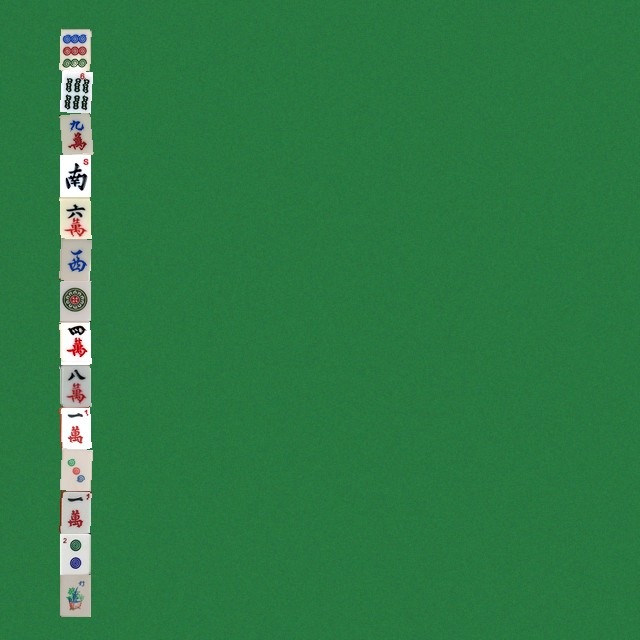tile: (59, 28, 90, 70), (59, 70, 90, 112), (59, 112, 90, 154), (59, 154, 90, 196), (59, 196, 90, 238), (59, 238, 90, 280), (59, 280, 90, 322), (59, 322, 90, 364), (59, 364, 90, 406), (59, 406, 90, 448), (59, 448, 90, 490), (59, 490, 90, 532), (59, 532, 90, 574), (59, 574, 90, 616)
